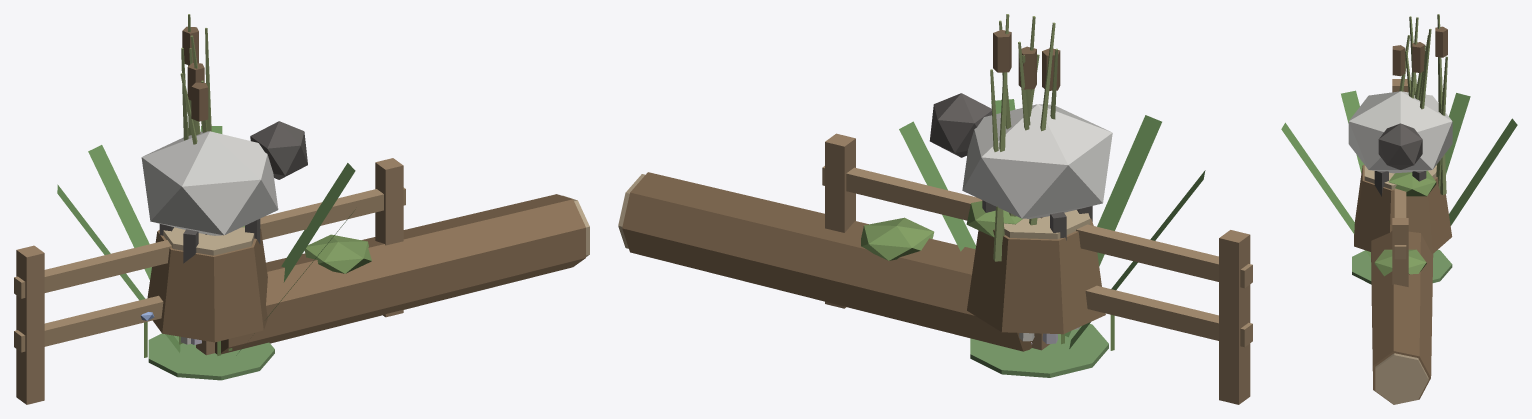
The model's file is prop-kit.glb.
3 renders of one model, left to right at view 1: azimuth 30°, elevation 25°; view 2: azimuth 150°, elevation 25°; view 3: azimuth 270°, elevation 25°, orthographic. The views are drawn at different scales.
Visible parts, largest first — view 1: prop_log, prop_fence, prop_sheep, prop_stump, prop_fern, prop_lily, prop_reeds; view 2: prop_log, prop_fence, prop_sheep, prop_stump, prop_fern, prop_reeds, prop_lily; view 3: prop_log, prop_sheep, prop_stump, prop_fern, prop_reeds, prop_fence, prop_lily.
Part boxes in pixels (left/top/right/bottom): prop_log: left=215, top=194, right=589, bottom=354; prop_fence: left=14, top=158, right=405, bottom=404; prop_sheep: left=141, top=121, right=307, bottom=263; prop_stump: left=147, top=226, right=267, bottom=342; prop_fern: left=57, top=126, right=355, bottom=355; prop_lily: left=148, top=333, right=274, bottom=380; prop_reeds: left=180, top=14, right=211, bottom=144; prop_log: left=618, top=172, right=1031, bottom=351; prop_fence: left=822, top=133, right=1252, bottom=404; prop_sheep: left=929, top=93, right=1112, bottom=240; prop_stump: left=966, top=201, right=1105, bottom=334; prop_fern: left=899, top=99, right=1205, bottom=348; prop_reeds: left=990, top=14, right=1060, bottom=261; prop_lily: left=970, top=324, right=1108, bottom=377; prop_log: left=1371, top=231, right=1433, bottom=404; prop_sheep: left=1348, top=91, right=1452, bottom=196; prop_stump: left=1354, top=165, right=1452, bottom=253; prop_fern: left=1281, top=90, right=1517, bottom=257; prop_reeds: left=1392, top=14, right=1447, bottom=194; prop_fence: left=1392, top=79, right=1408, bottom=286; prop_lily: left=1352, top=249, right=1452, bottom=284.
Bounding box in the file's own units: 2.17 × 1.2 × 1.01.
